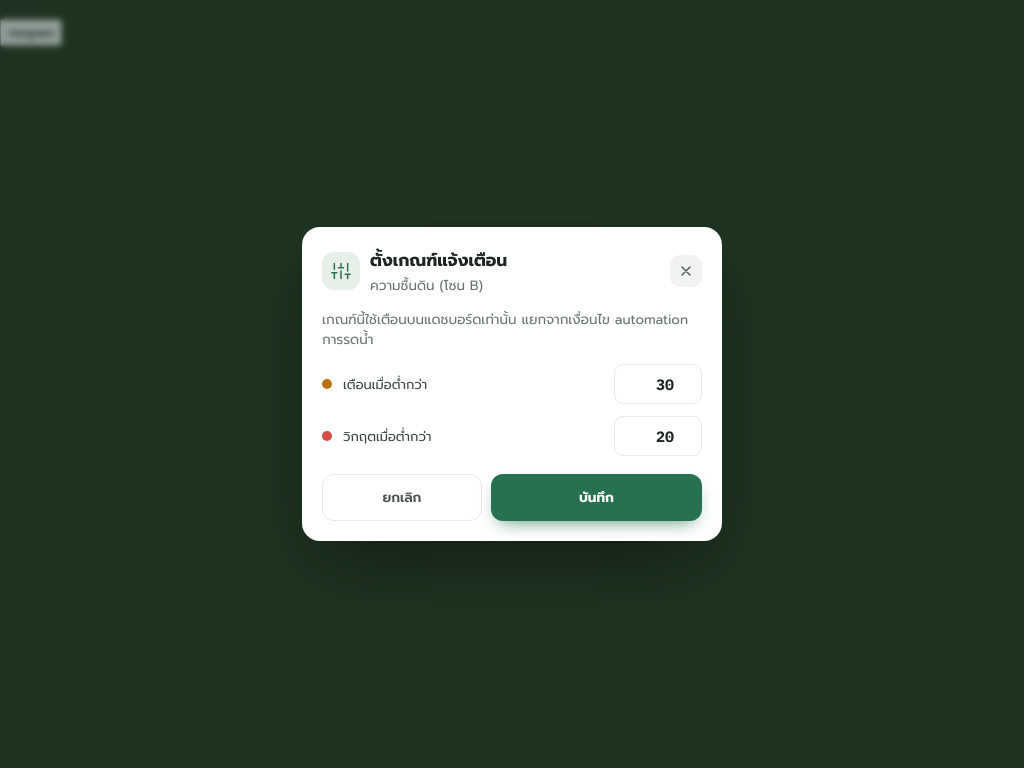
Test: ThresholdModal › ปุ่มยกเลิกแยกคำสั่งจากปุ่มบันทึก — ปิดแล้วค่าต้องไม่เปลี่ยน
The width and height of the screenshot is (1024, 768).
Replace the text in the number field labelled "เตือนเมื่อต่ำกว่า" with "99" at (658, 384), box [614,364,702,404]
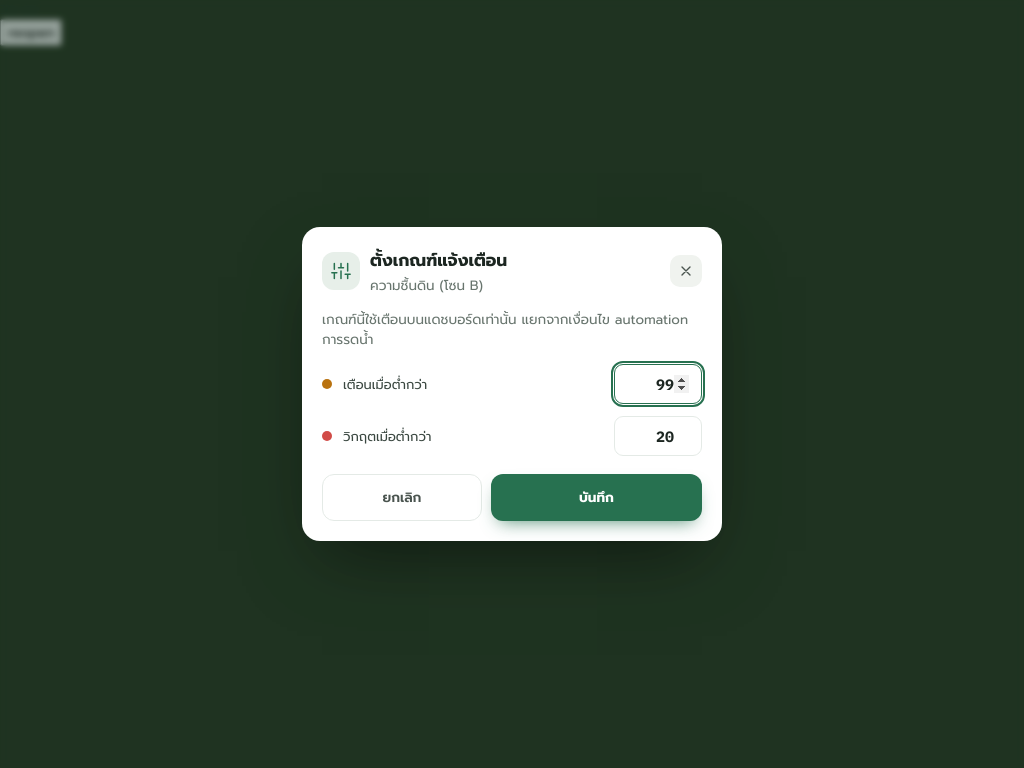
Click the button "ยกเลิก" at (402, 498), box [322,474,482,521]
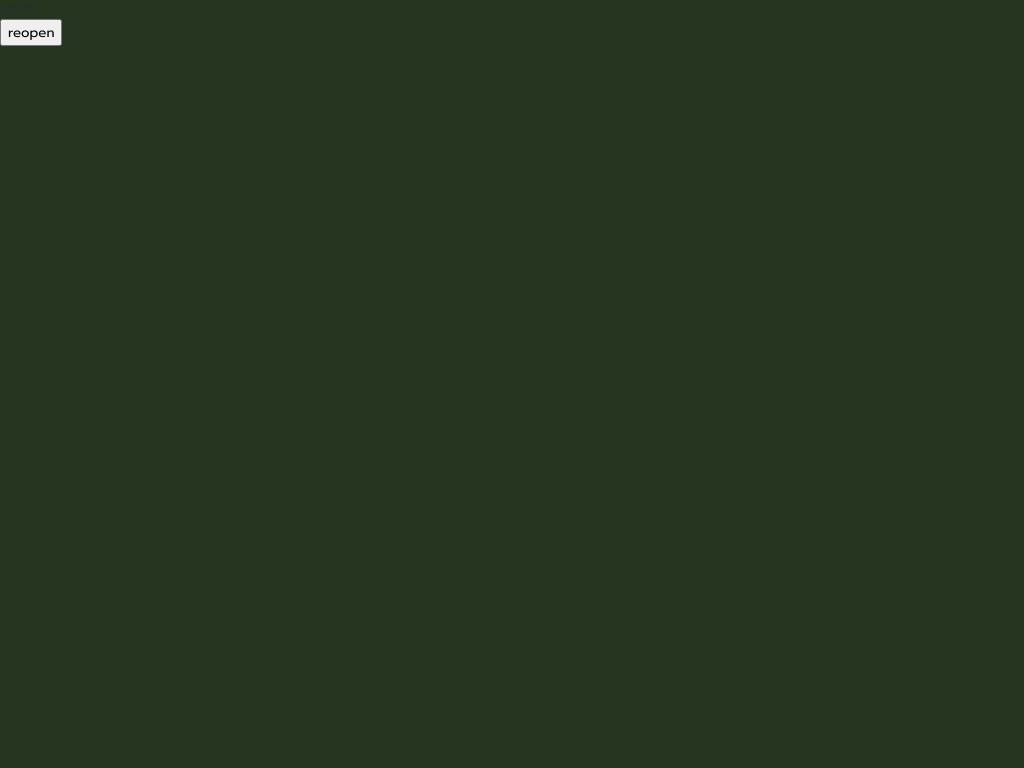
expect the heading "ตั้งเกณฑ์แจ้งเตือน" is gone: met
